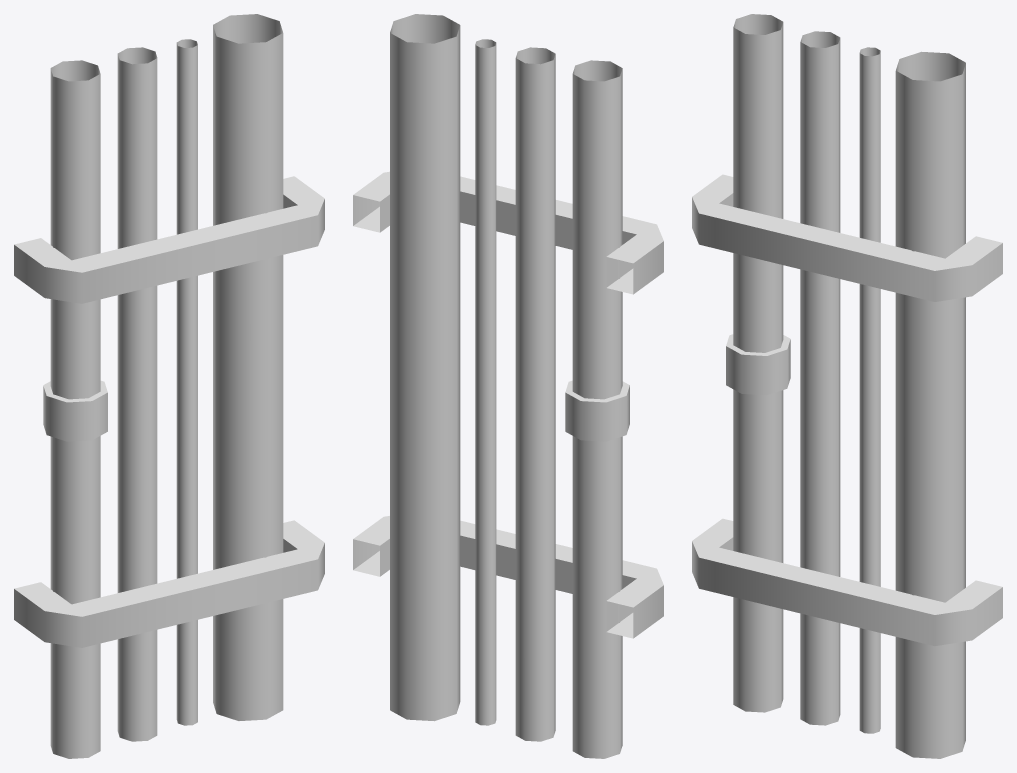
File: Cabinet.003.fbx
3 views of the same model, side by side, from view 1: azimuth 30°, elevation 25°; view 2: azimuth 150°, elevation 25°; view 3: azimuth 330°, elevation 25° (orthographic).
Visible parts, largest first — view 1: Cabinet.003; view 2: Cabinet.003; view 3: Cabinet.003.
Part boxes in pixels (x1,y1,x2,y2): Cabinet.003: (14,14,324,758); Cabinet.003: (353,14,663,758); Cabinet.003: (692,14,1002,758).
Bounding box in the file's own units: 0.2565 × 0.5924 × 0.0811.
